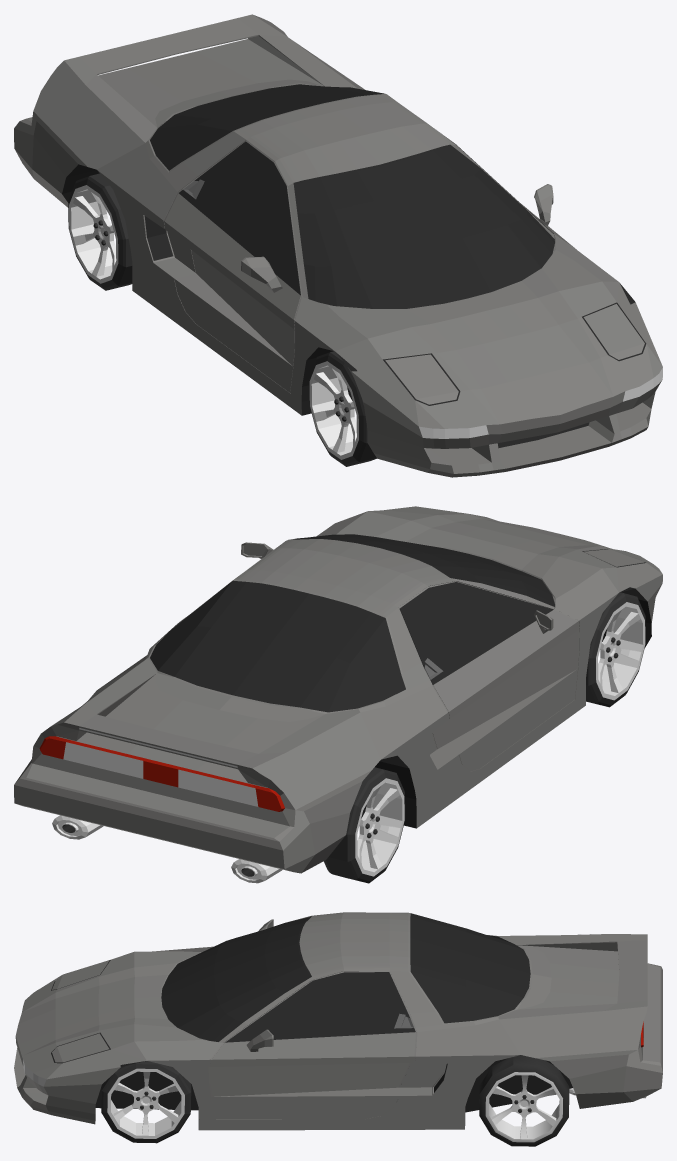
The model's file is Honda-NSX(LTS).fbx.
3 views of the same model, one above another, from view 1: azimuth 30°, elevation 25°; view 2: azimuth 150°, elevation 25°; view 3: azimuth 270°, elevation 25° (orthographic). The views are drawn at different scales.
Parts seen in each view (by area): view 1: Body, RearRightWheels, FrontRightWheels; view 2: Body, RearRightWheels, FrontRightWheels; view 3: Body, RearLeftWheels, FrontLeftWheels.
Boxes of the visible parts, x1=… form: Body: x1=14, y1=14, x2=662, y2=477; RearRightWheels: x1=68, y1=173, x2=132, y2=290; FrontRightWheels: x1=309, y1=351, x2=376, y2=466; Body: x1=14, y1=506, x2=662, y2=883; RearRightWheels: x1=324, y1=767, x2=405, y2=883; FrontRightWheels: x1=586, y1=592, x2=645, y2=707; Body: x1=14, y1=912, x2=662, y2=1130; RearLeftWheels: x1=479, y1=1055, x2=569, y2=1146; FrontLeftWheels: x1=101, y1=1061, x2=191, y2=1143.
Bounding box in the file's own units: 1.88 × 4.34 × 1.16.
